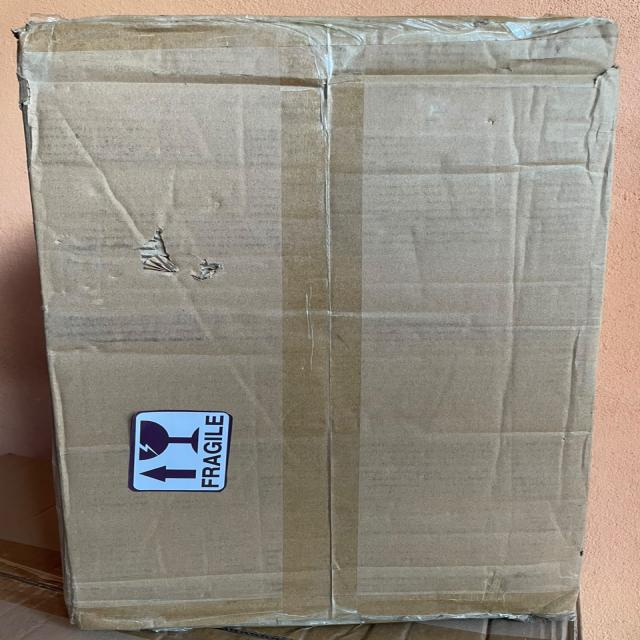carton_box: (6, 1, 640, 640)
fragile_label: (106, 396, 262, 506)
package_damage: (565, 6, 636, 140), (113, 223, 235, 288), (6, 8, 54, 64)
